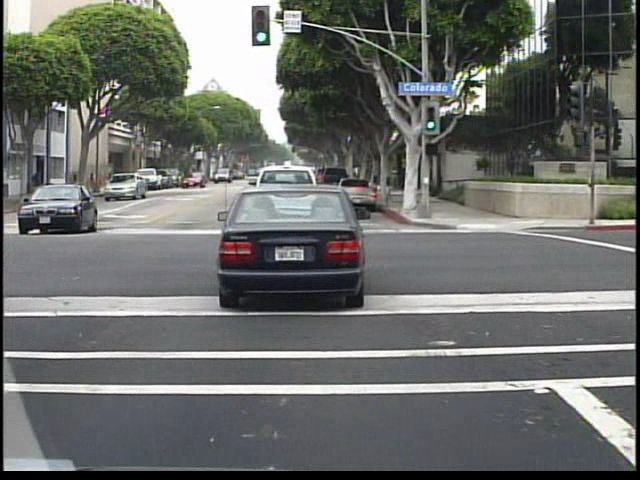person: (27, 169, 46, 208)
